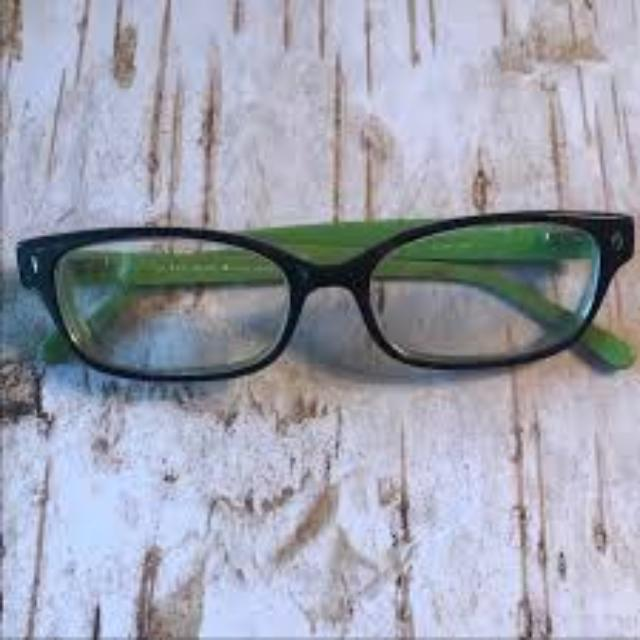mask: (15, 206, 640, 384)
